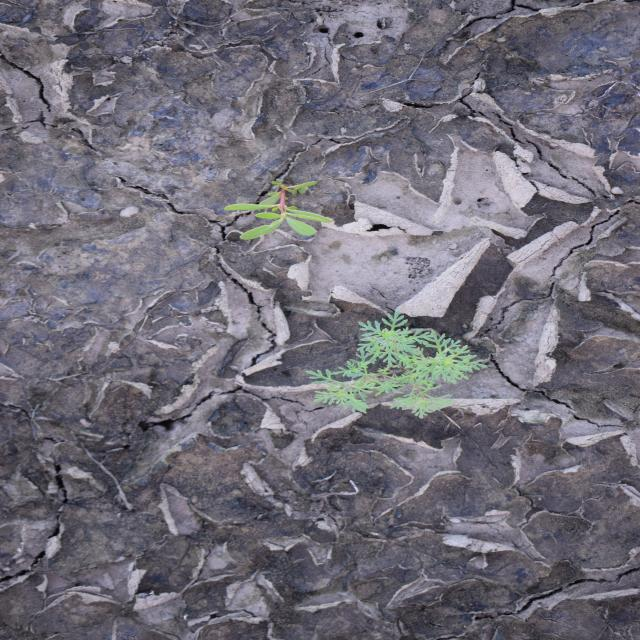Purslane: (222, 177, 336, 242)
Ragweed: (304, 307, 491, 419)
